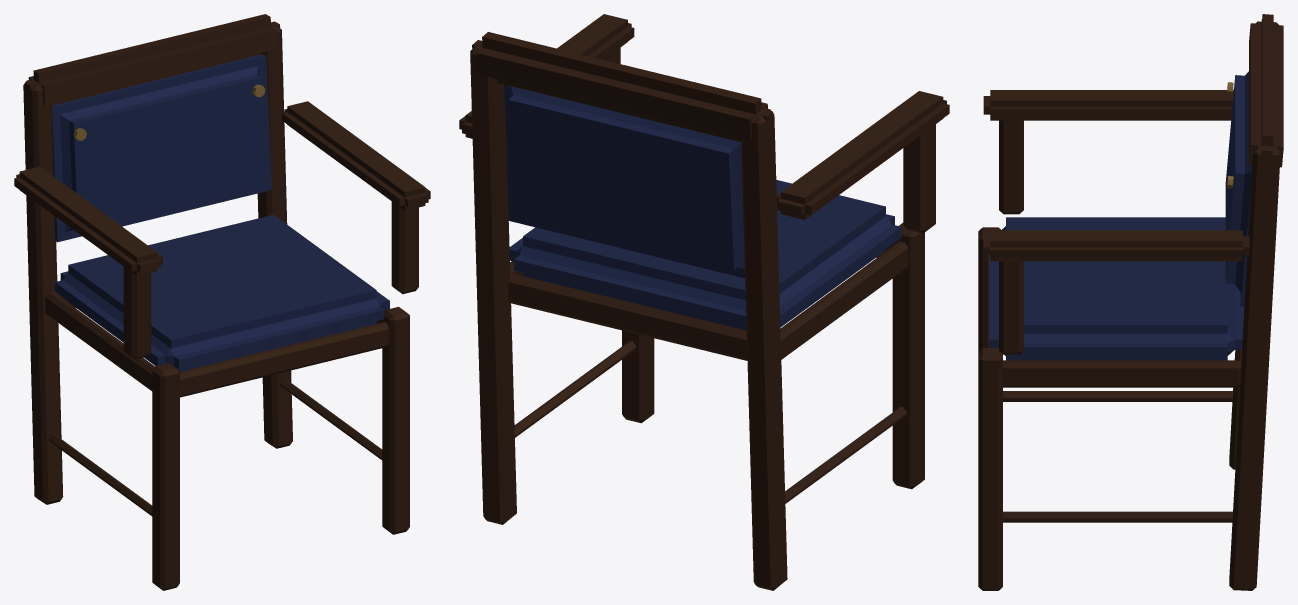
Rendered from koala-chair.glb.
3 renders of one model, left to right at view 1: azimuth 30°, elevation 25°; view 2: azimuth 150°, elevation 25°; view 3: azimuth 270°, elevation 25°, orthographic. The views are drawn at different scales.
Parts seen in each view (by area): view 1: koala-seat-observatory; view 2: koala-seat-observatory; view 3: koala-seat-observatory.
Boxes of the visible parts, <box> form: koala-seat-observatory: <box>14,14,430,590</box>; koala-seat-observatory: <box>459,14,949,590</box>; koala-seat-observatory: <box>978,14,1283,590</box>.
Bounding box in the file's own units: 0.67 × 0.901 × 0.5515.
